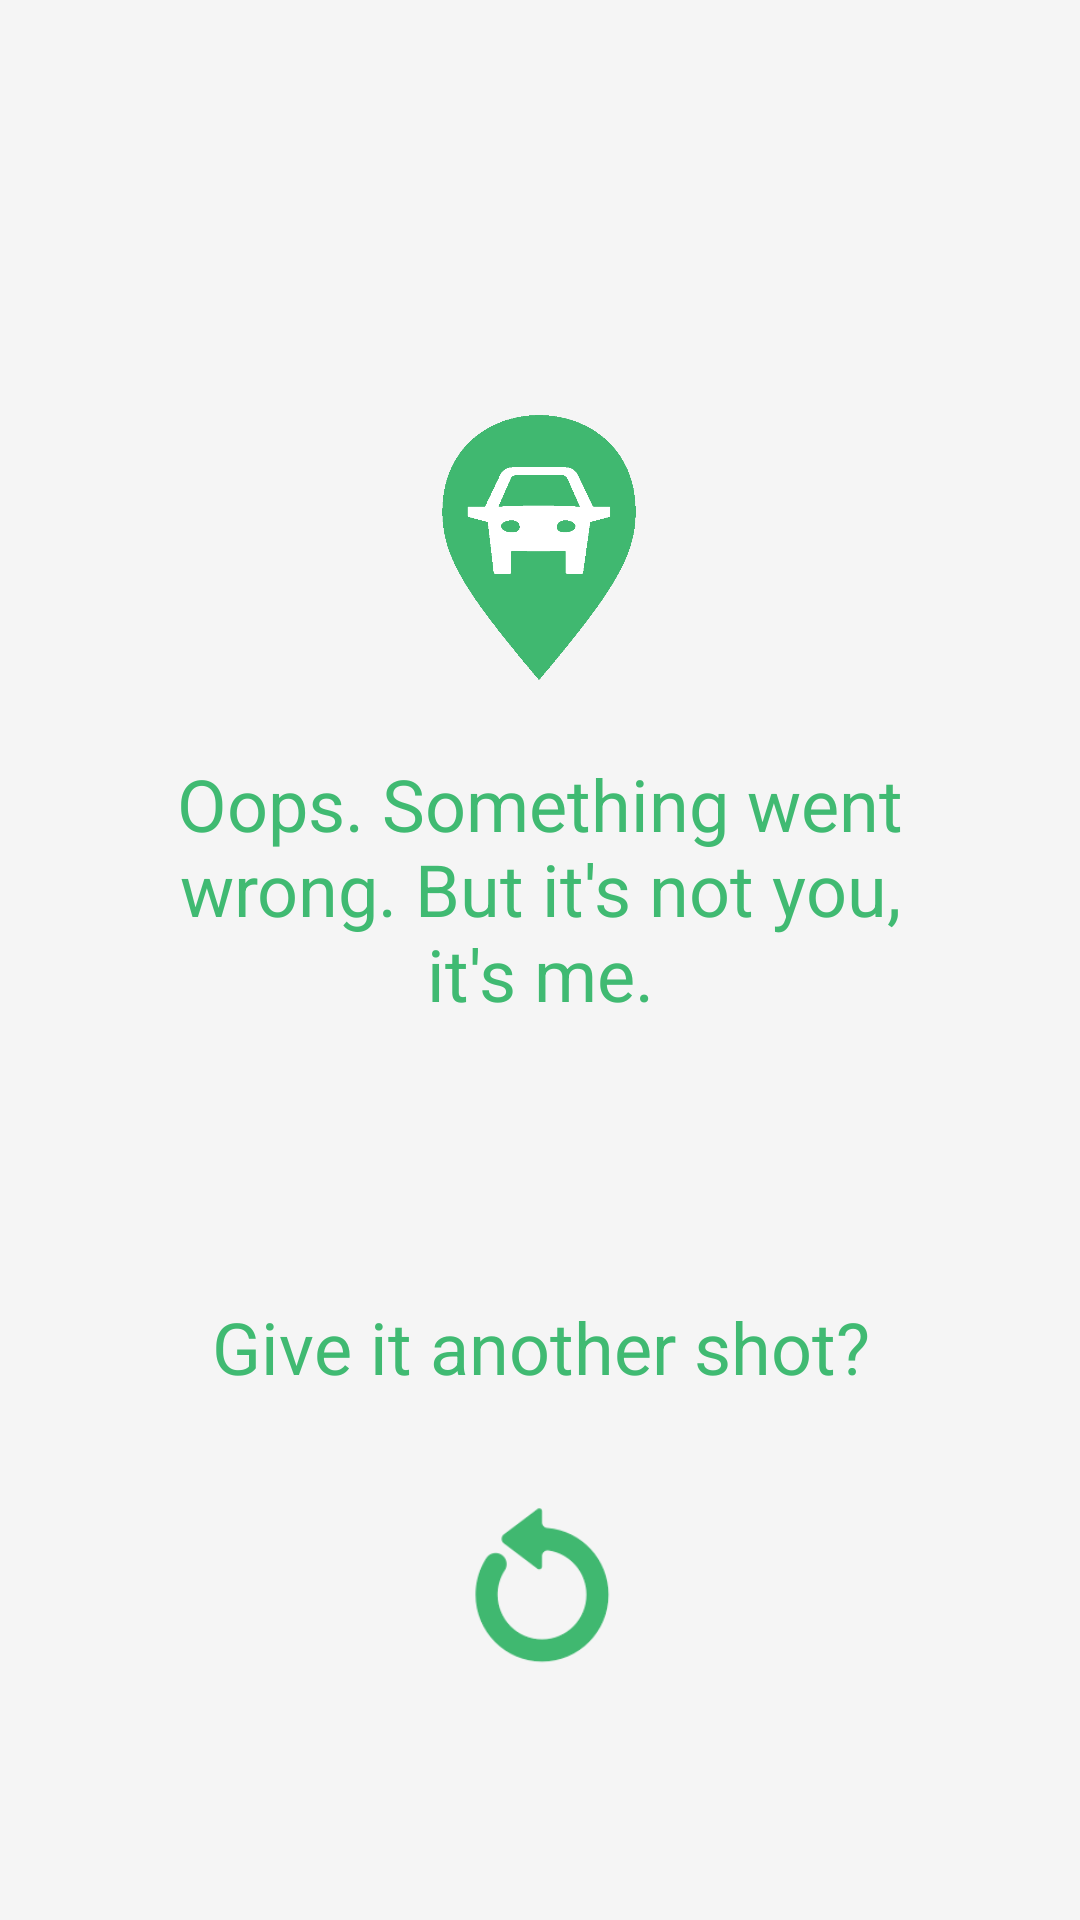

Icons on this 1080×1920 Android screen, each with the point to tap as [x,y]:
try again: [542,1585]
